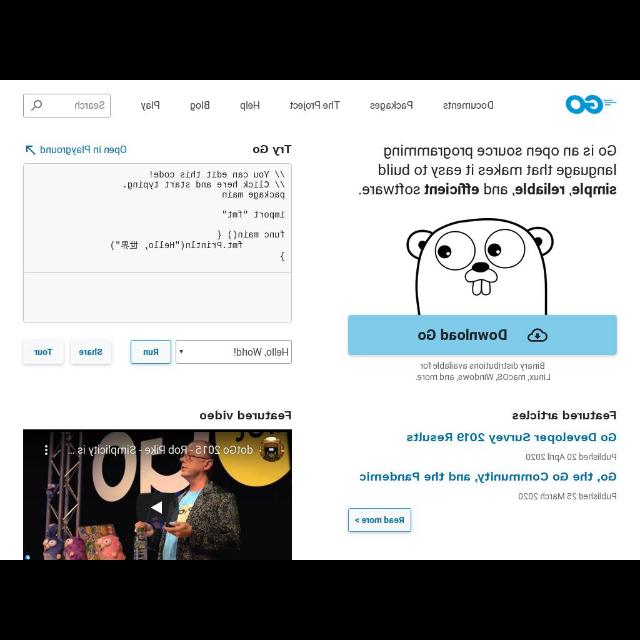icon: (527, 329, 547, 341), (30, 100, 42, 112), (26, 146, 36, 156), (178, 350, 184, 354), (355, 518, 359, 522)
image: (24, 429, 292, 558), (406, 219, 554, 315), (566, 95, 618, 115)
input: (22, 94, 110, 118)
multitab: (140, 101, 494, 111)
spinner: (175, 341, 291, 363)
text: (110, 170, 286, 262), (358, 144, 618, 196), (415, 362, 551, 382), (358, 472, 618, 482), (406, 433, 616, 443), (512, 410, 616, 420), (418, 328, 507, 339), (518, 492, 618, 501), (200, 410, 290, 420), (41, 145, 128, 155), (524, 453, 618, 461), (234, 347, 288, 357), (289, 100, 339, 110), (254, 144, 292, 156), (369, 101, 413, 111), (443, 102, 493, 110), (362, 516, 404, 524), (75, 100, 105, 110), (240, 101, 260, 111), (140, 101, 160, 111), (79, 348, 103, 356), (190, 102, 210, 110), (143, 348, 159, 356), (34, 349, 52, 355)
textbutton: (347, 314, 618, 356), (348, 508, 410, 532), (130, 340, 172, 364), (22, 340, 64, 364), (70, 342, 110, 364)
